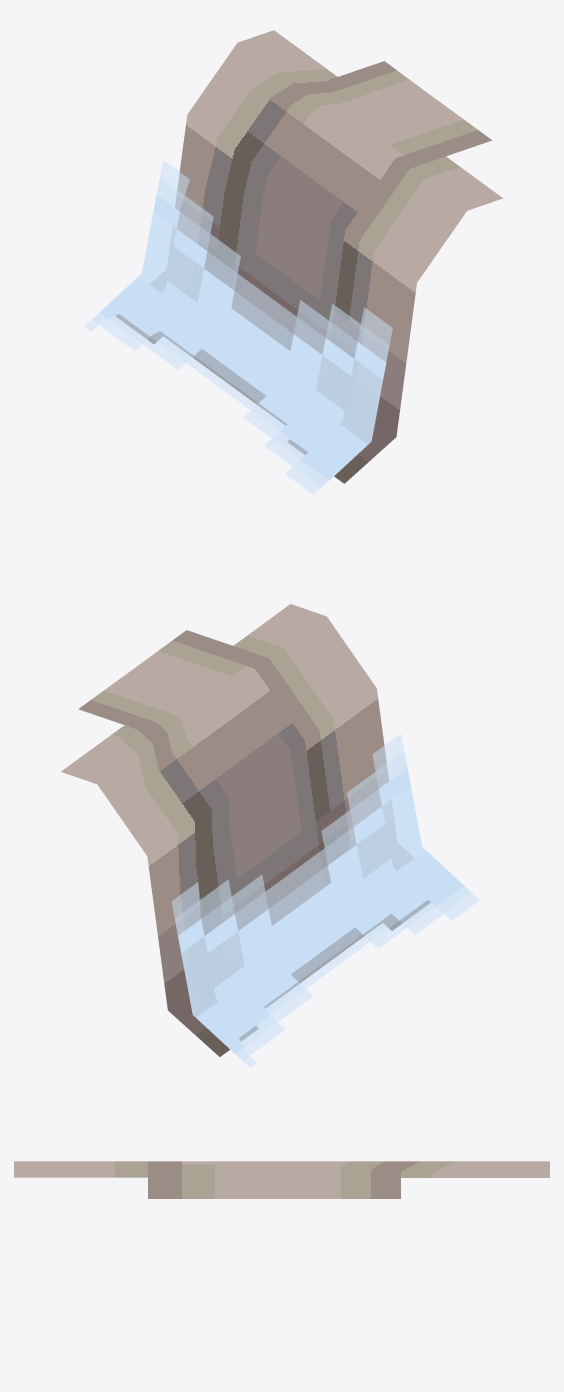
The picture shows the model from 3 angles, top to bottom: view 1: azimuth 30°, elevation 25°; view 2: azimuth 150°, elevation 25°; view 3: azimuth 270°, elevation 25°; orthographic projection. The views are drawn at different scales.
Size of the model in its own units: 0.7708 by 0.7266 by 1.
Materials: 2 (2 with a texture image).
